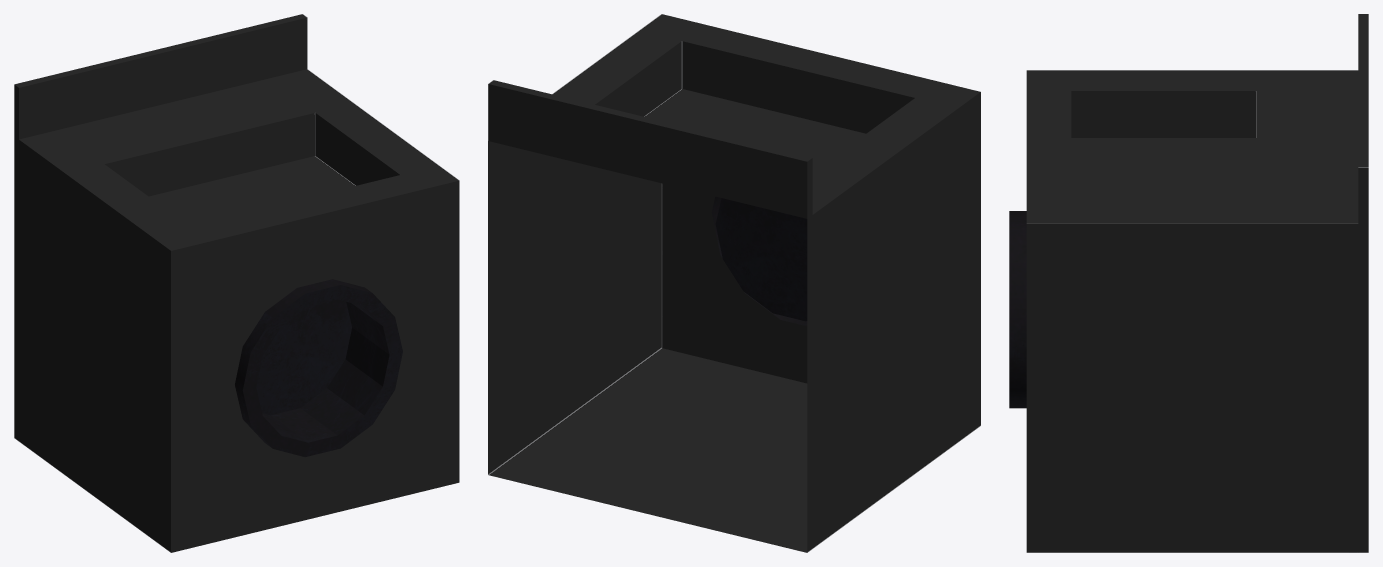
File: WashingMachine3.fbx
3 renders of one model, left to right at view 1: azimuth 30°, elevation 25°; view 2: azimuth 150°, elevation 25°; view 3: azimuth 270°, elevation 25°, orthographic. The views are drawn at different scales.
Visible parts, largest first — view 1: WashingMachine, Washing_Machine_inside1; view 2: WashingMachine, Washing_Machine_inside1; view 3: WashingMachine, Washing_Machine_inside1.
Part boxes in pixels (bbox=[...]): WashingMachine: bbox=[14, 14, 459, 552]; Washing_Machine_inside1: bbox=[235, 279, 402, 457]; WashingMachine: bbox=[488, 14, 980, 552]; Washing_Machine_inside1: bbox=[711, 196, 807, 325]; WashingMachine: bbox=[1026, 14, 1368, 552]; Washing_Machine_inside1: bbox=[1009, 211, 1026, 408].
Bounding box in the file's own units: 88.86 × 104 × 87.93.
1 material, 1 textured.
